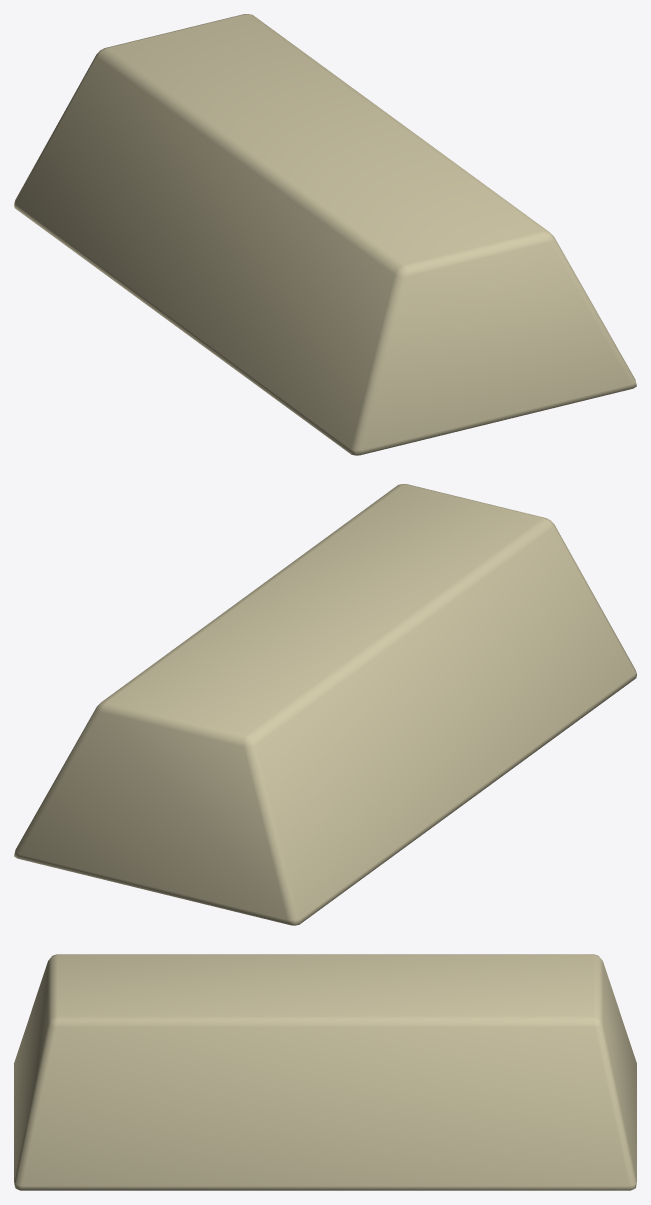
File: Ingots.fbx
3 views of the same model, one above another, from view 1: azimuth 30°, elevation 25°; view 2: azimuth 150°, elevation 25°; view 3: azimuth 270°, elevation 25° (orthographic). The views are drawn at different scales.
Visible parts, largest first — view 1: IngotElectrum; view 2: IngotElectrum; view 3: IngotElectrum.
Part boxes in pixels (<box>): IngotElectrum: <box>14,14,636,455</box>; IngotElectrum: <box>14,484,636,925</box>; IngotElectrum: <box>14,954,636,1190</box>.
Size of the model in its own units: 0.0957 by 0.0511 by 0.2002.
